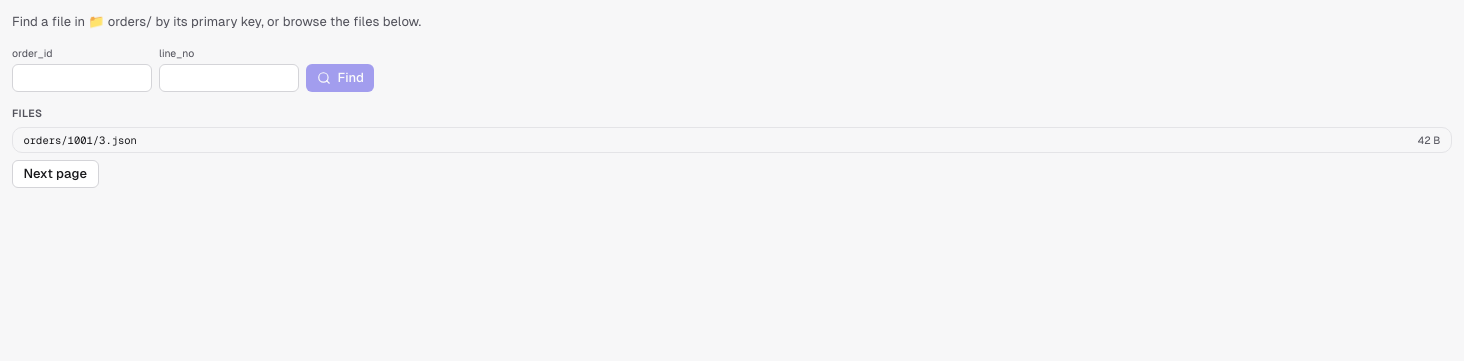
OutputBrowser › browses a directory page by page and opens a file
Click the button "Next page": x=55, y=174 x1=12 y1=160 x2=99 y2=188
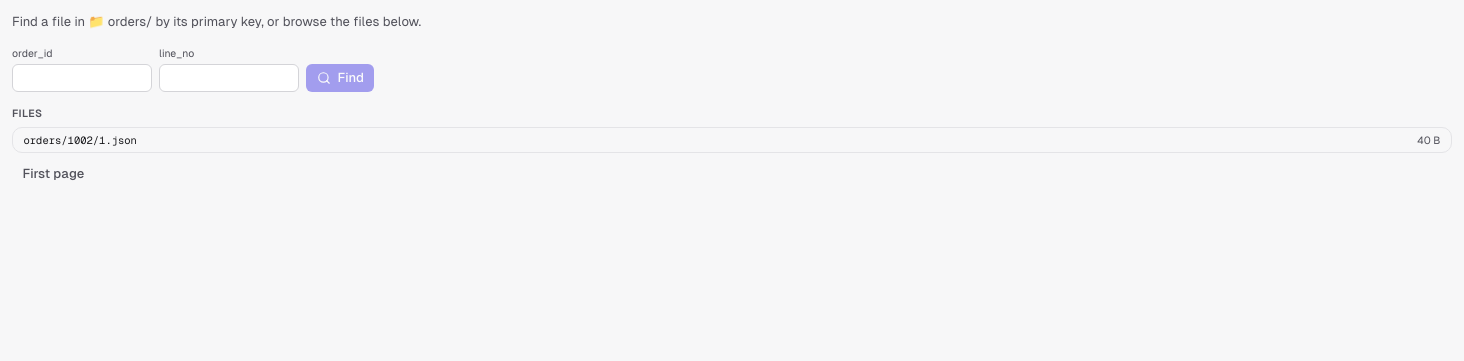
Check: the text "orders/1002/1.json" is shown, box x1=24 y1=133 x2=137 y2=147
Click the button "First page": x=53, y=174 x1=12 y1=160 x2=95 y2=188
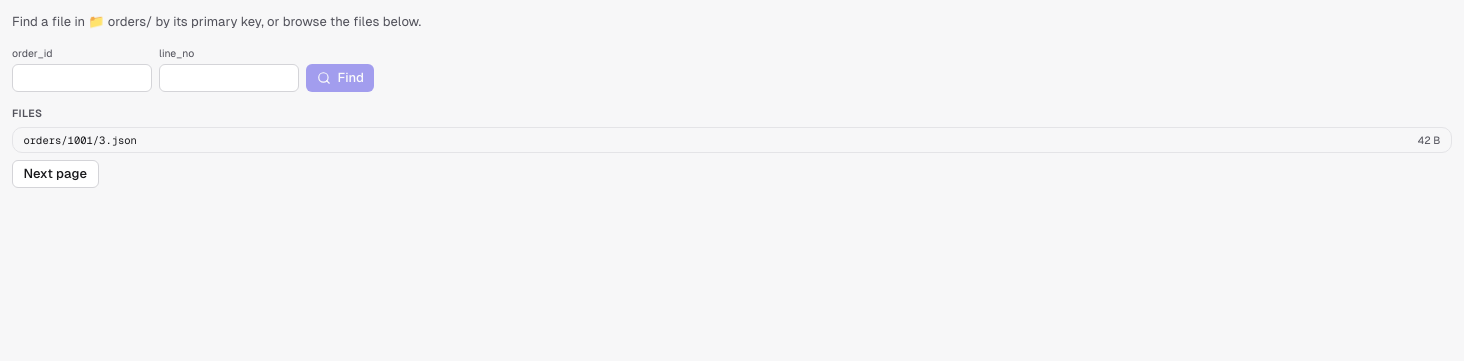
Click the text "orders/1001/3.json": x=80, y=140 x1=24 y1=133 x2=137 y2=147
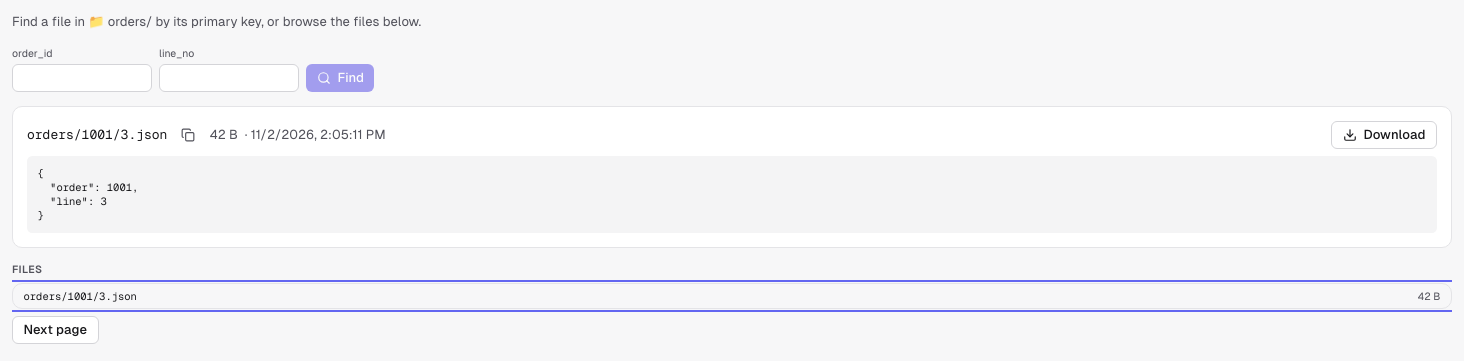
Check: the element named "Document" is shown, box x1=12 y1=106 x2=1452 y2=248
